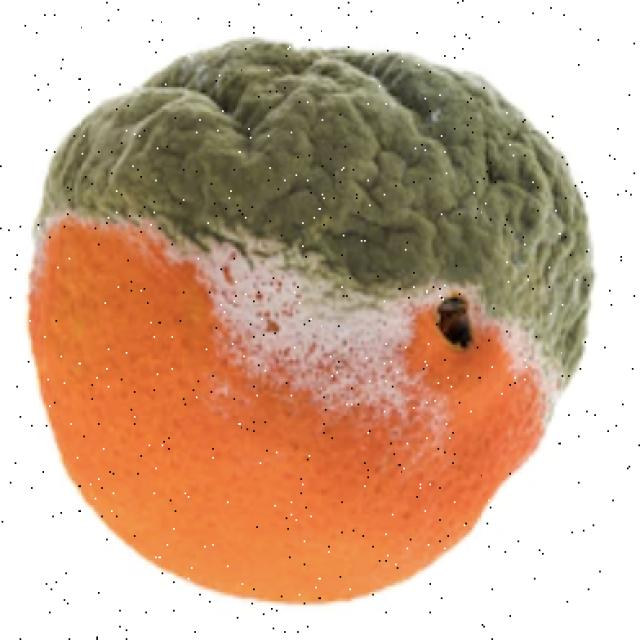sangat_busuk: (30, 36, 596, 612)
